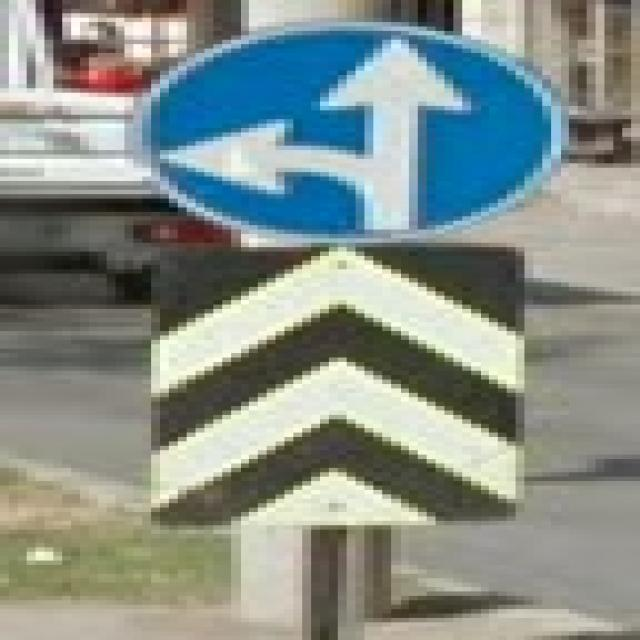Straight or Left: (130, 23, 565, 248)
